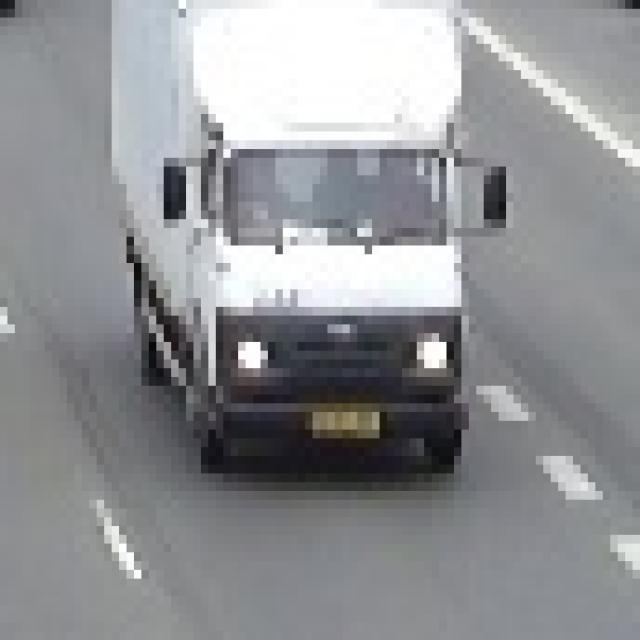truck: (96, 0, 498, 473)
